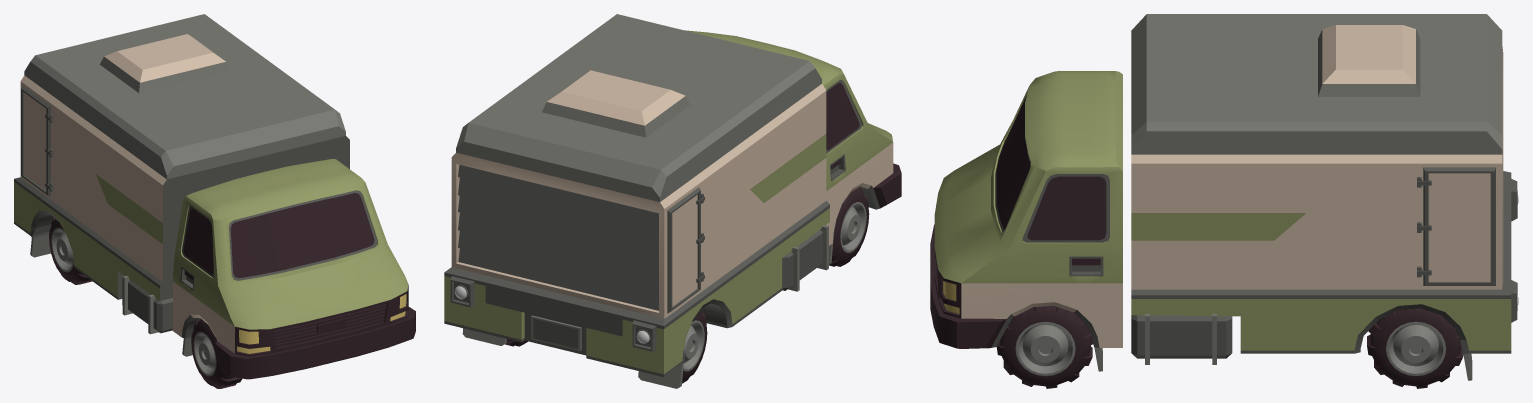
The model's file is q-truck-cxw6oiftz8.glb.
The picture shows the model from 3 angles, left to right: view 1: azimuth 30°, elevation 25°; view 2: azimuth 150°, elevation 25°; view 3: azimuth 270°, elevation 25°; orthographic projection. The views are drawn at different scales.
Visible parts, largest first — view 1: Truck, FrontWheel_R, BackWheels; view 2: Truck, FrontWheel_R, BackWheels; view 3: Truck, FrontWheel_L, BackWheels.
Part boxes in pixels (<box>): Truck: <box>14,14,415,379</box>; FrontWheel_R: <box>191,318,241,388</box>; BackWheels: <box>49,218,92,284</box>; Truck: <box>444,14,901,388</box>; FrontWheel_R: <box>829,187,869,266</box>; BackWheels: <box>505,309,707,383</box>; Truck: <box>930,14,1518,380</box>; FrontWheel_L: <box>996,305,1093,388</box>; BackWheels: <box>1367,308,1463,388</box>.
Bounding box in the file's own units: 2.71 × 2.88 × 5.26.
3 materials, 1 textured.
